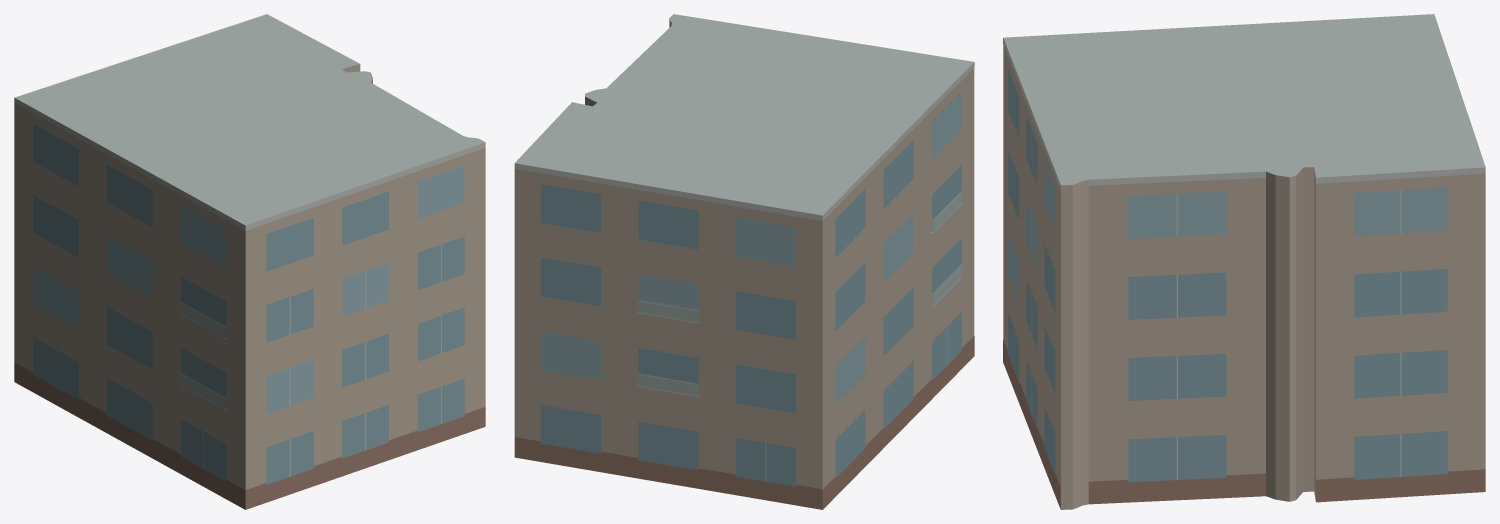
File: survey-upis-32746215.glb
3 renders of one model, left to right at view 1: azimuth 30°, elevation 25°; view 2: azimuth 150°, elevation 25°; view 3: azimuth 270°, elevation 25°, orthographic. The views are drawn at different scales.
Visible parts, largest first — view 1: survey-upis-32746215.tmp; view 2: survey-upis-32746215.tmp; view 3: survey-upis-32746215.tmp.
Part boxes in pixels (x1,y1,x2,y2): survey-upis-32746215.tmp: (14, 14, 485, 509); survey-upis-32746215.tmp: (514, 14, 974, 509); survey-upis-32746215.tmp: (1003, 14, 1485, 509).
Bounding box in the file's own units: 14.61 × 12.9 × 17.39.
